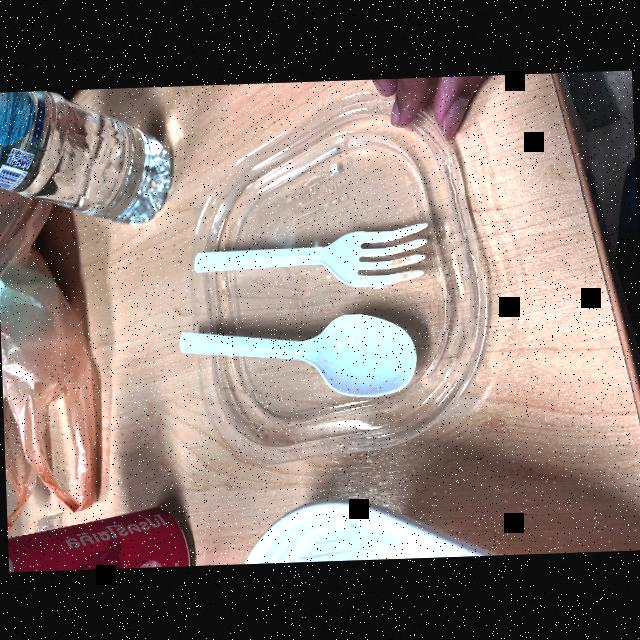plastic_cultery: (169, 299, 429, 412), (188, 215, 438, 297)
